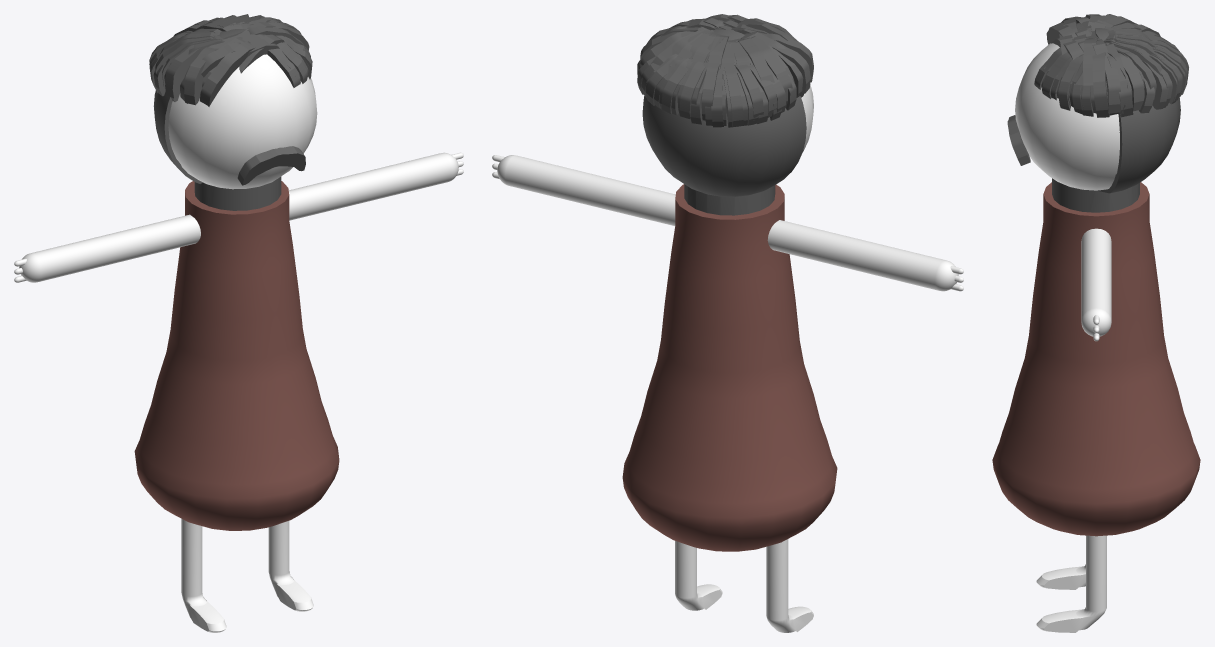
File: galan.fbx
3 views of the same model, side by side, from view 1: azimuth 30°, elevation 25°; view 2: azimuth 150°, elevation 25°; view 3: azimuth 270°, elevation 25° (orthographic). The views are drawn at different scales.
Visible parts, largest first — view 1: pSphere90; view 2: pSphere90; view 3: pSphere90.
Boxes of the visible parts, x1,y1,x2,y2 form: pSphere90: (14, 14, 463, 632); pSphere90: (492, 14, 963, 632); pSphere90: (992, 14, 1200, 632).
Size of the model in its own units: 49.18 by 59.74 by 19.53.
